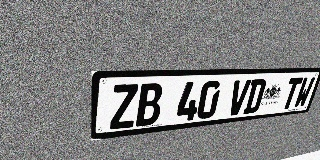0: (196, 81, 222, 120)
4: (175, 81, 202, 122)
B: (136, 83, 164, 127)
D: (243, 79, 267, 114)
T: (280, 77, 303, 110)
V: (226, 79, 252, 116)
W: (293, 77, 316, 108)
Z: (110, 84, 138, 130)
